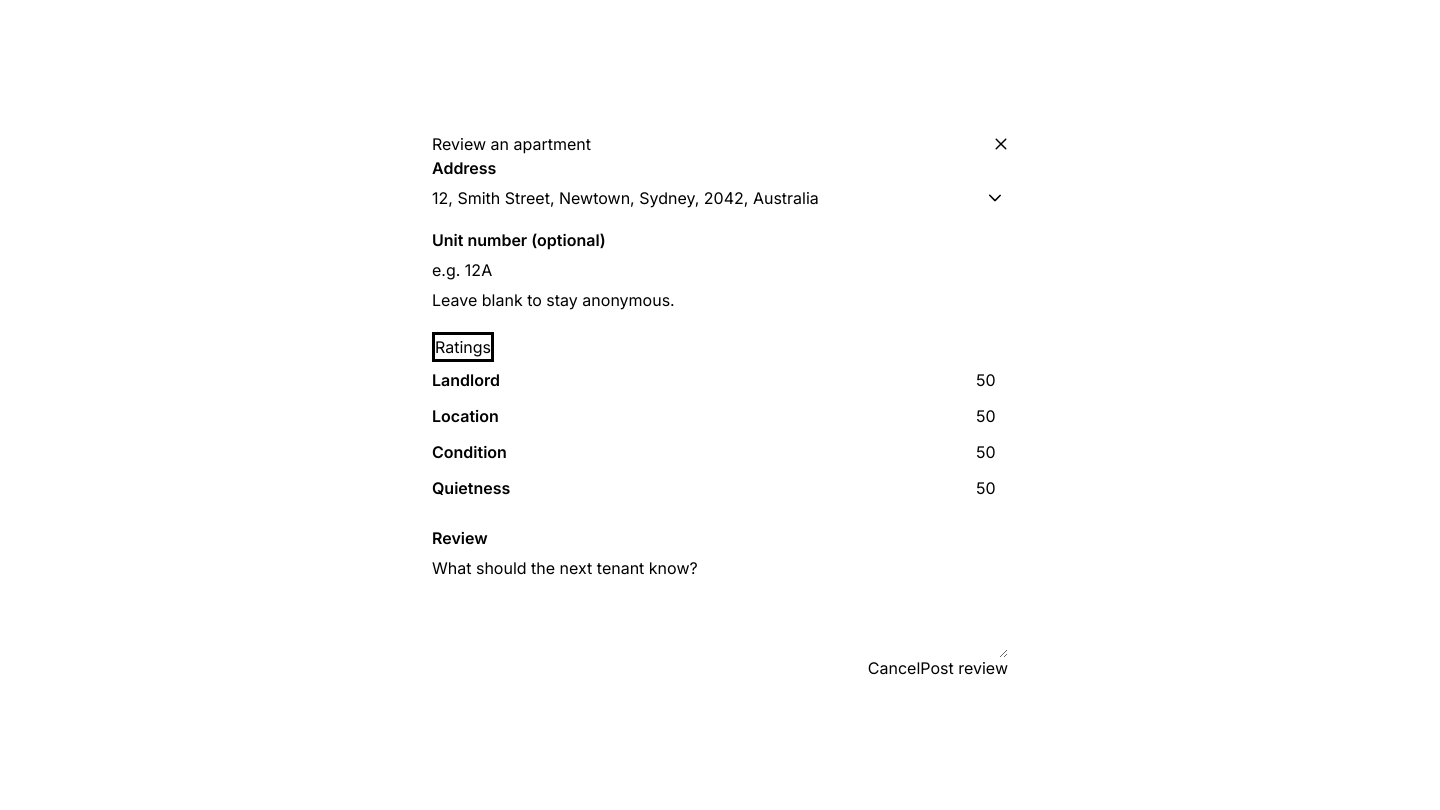
Test case: CreateReviewModal posting › stays open with what was typed when the review cannot be saved
The image size is (1440, 810).
In the text box with id "review": (720, 608) [432,558,1008,658], type "Great light, slow repairs."
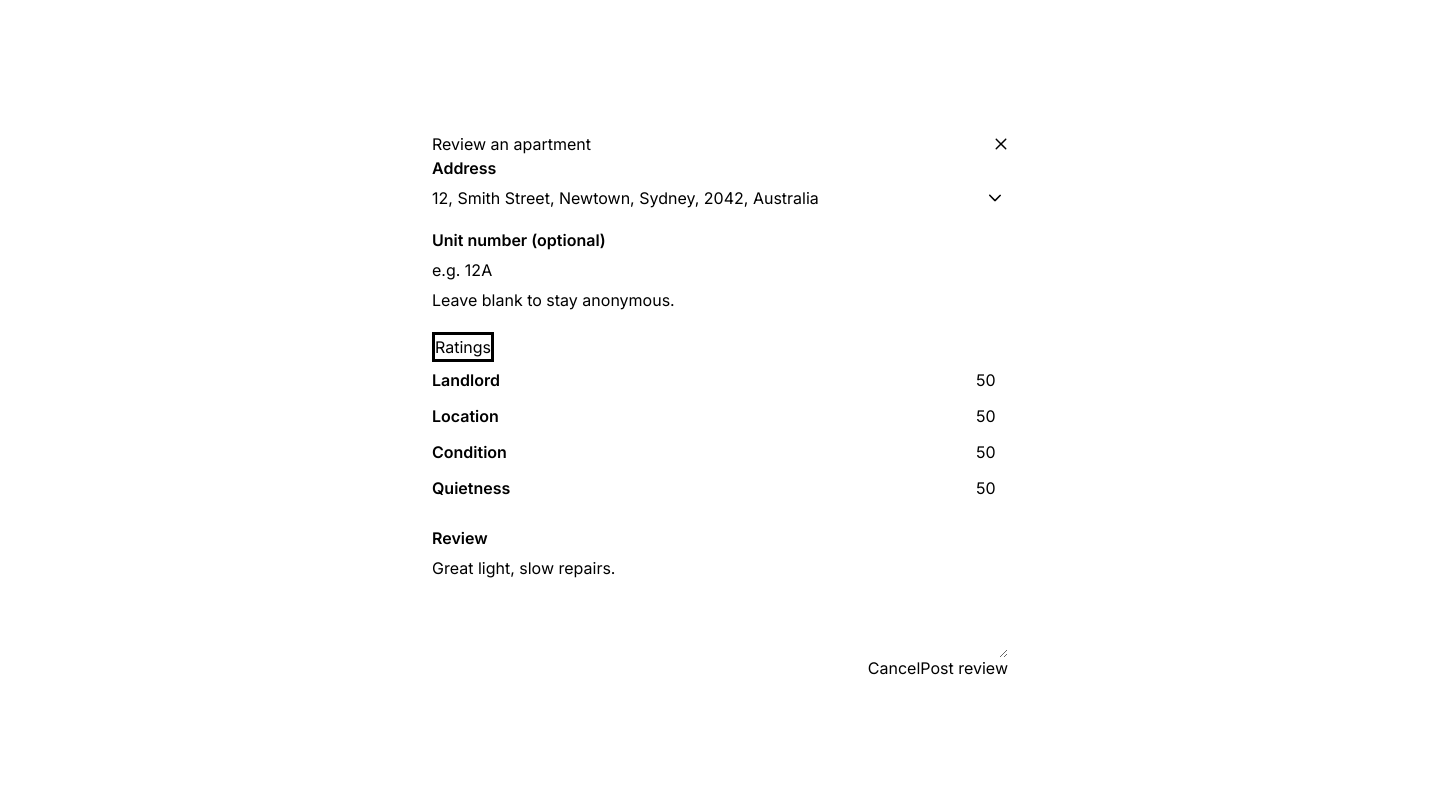
Click the button "Post review": (964, 668) [920,658,1008,678]
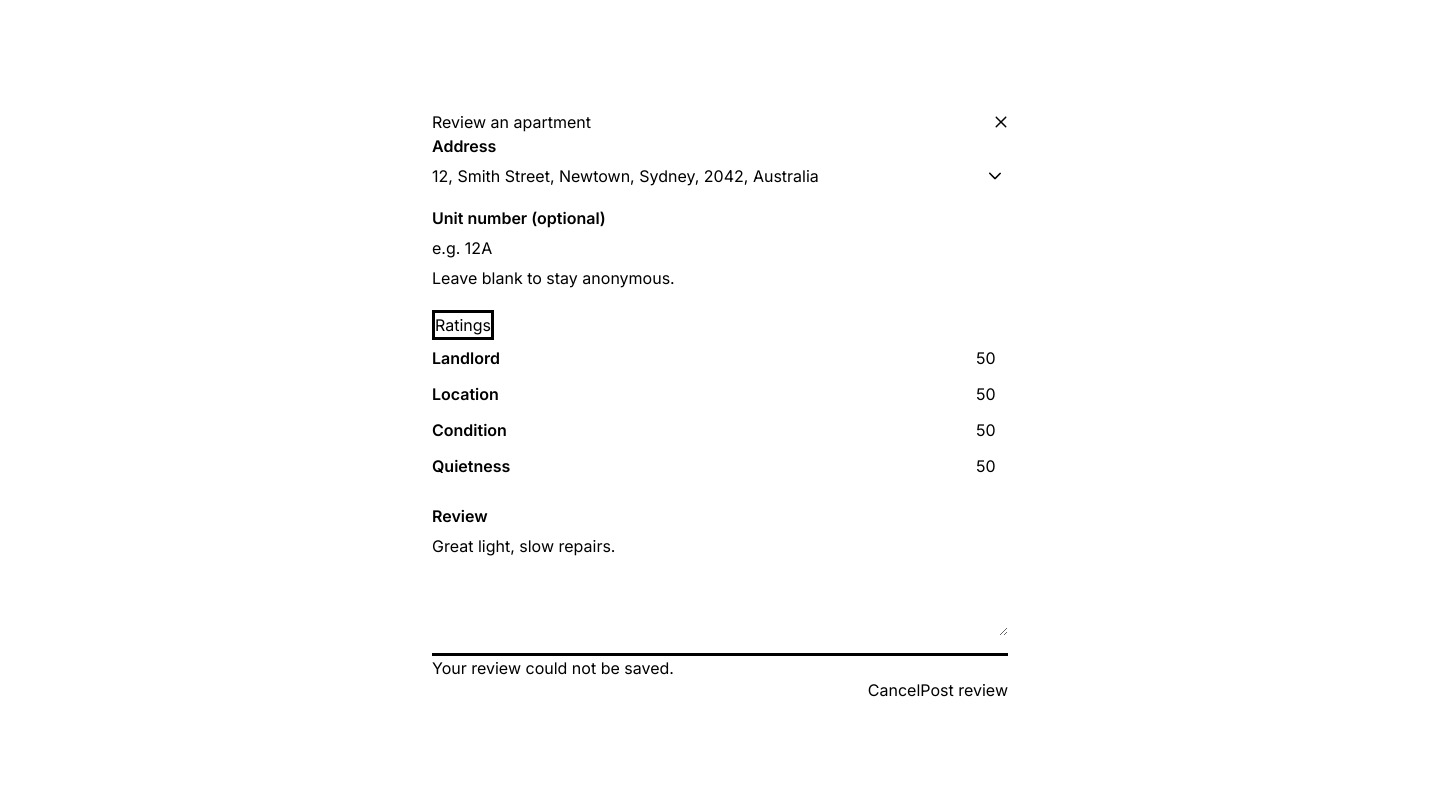
Check: the message "Your review could not be saved." is shown, box [432,658,674,678]
